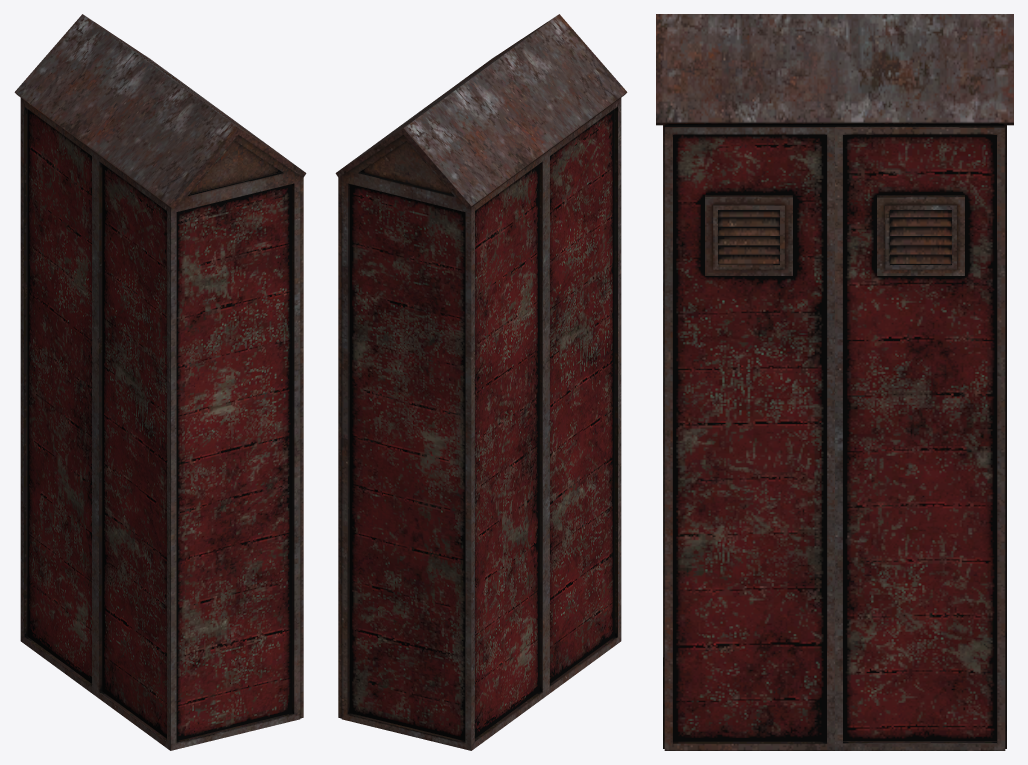
Rendered from Dead_By_Daylight_-_Locker 1.fbx.
3 views of the same model, side by side, from view 1: azimuth 30°, elevation 25°; view 2: azimuth 150°, elevation 25°; view 3: azimuth 270°, elevation 25° (orthographic). The views are drawn at different scales.
Parts seen in each view (by area): view 1: Object_5, Object_4; view 2: Object_5, Object_6; view 3: Object_4, Object_6, Object_5.
Part boxes in pixels (box(x1,y1,x2,y2)): Object_5: box(14, 14, 306, 750); Object_4: box(300, 176, 303, 718); Object_5: box(335, 14, 627, 750); Object_6: box(338, 176, 341, 718); Object_4: box(664, 125, 834, 750); Object_6: box(835, 125, 1005, 750); Object_5: box(656, 14, 1013, 748).
Bounding box in the file's own units: 170 × 713 × 331.
1 material, 1 textured.
